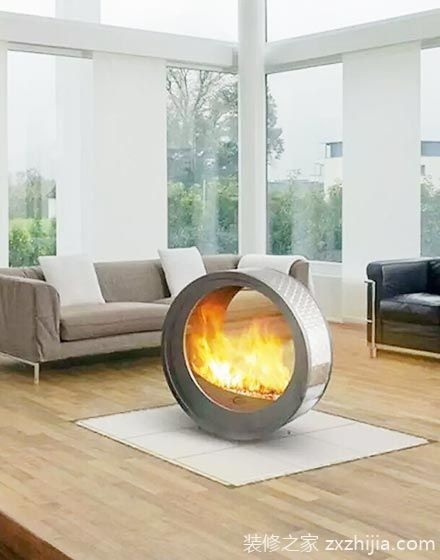fire: (181, 286, 294, 396)
